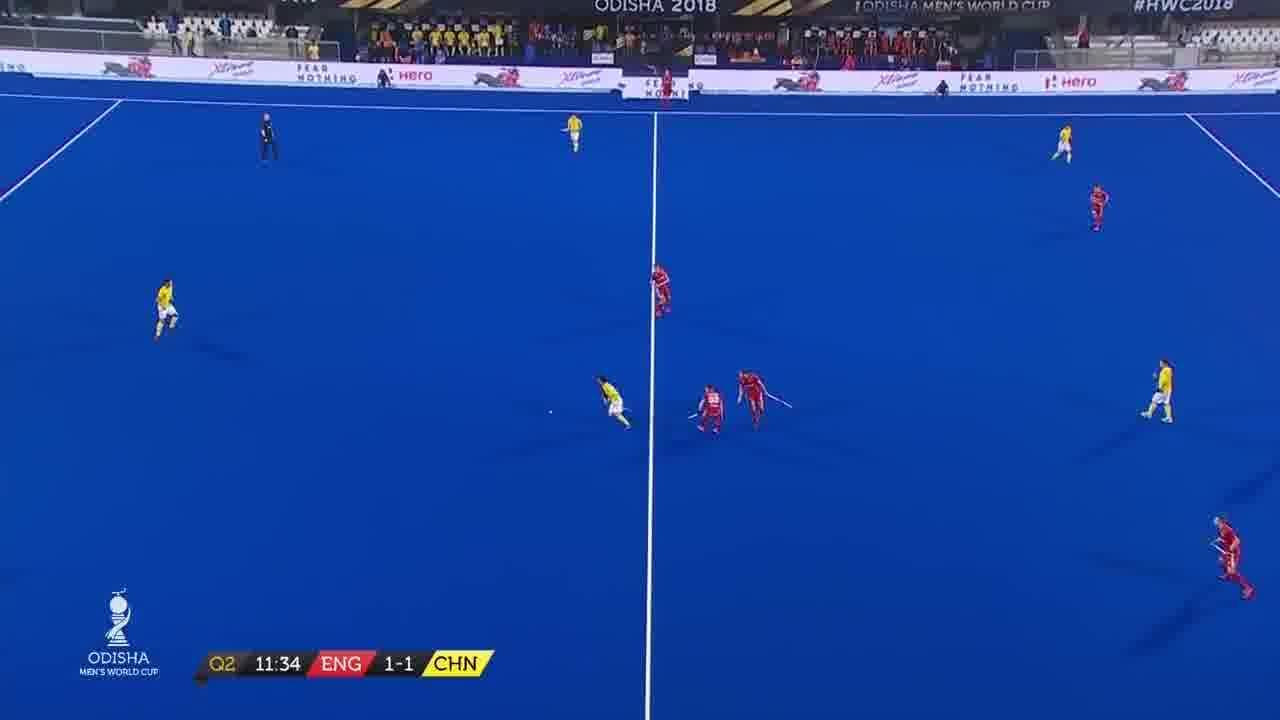ball: (547, 409, 556, 418)
